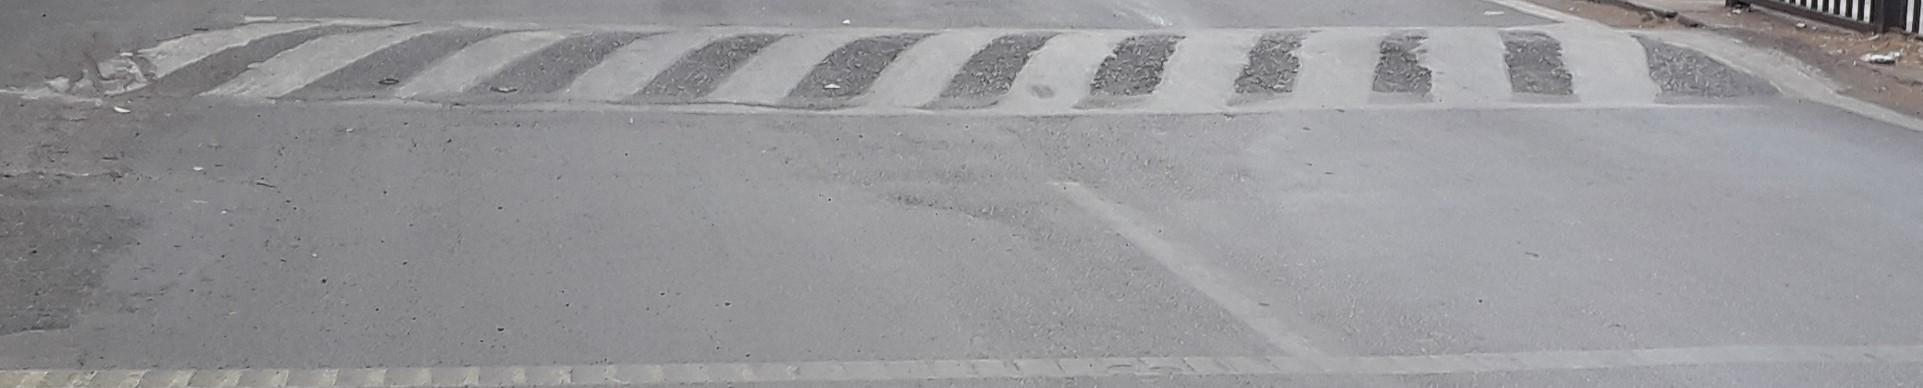speed-bump: (48, 15, 1883, 103)
